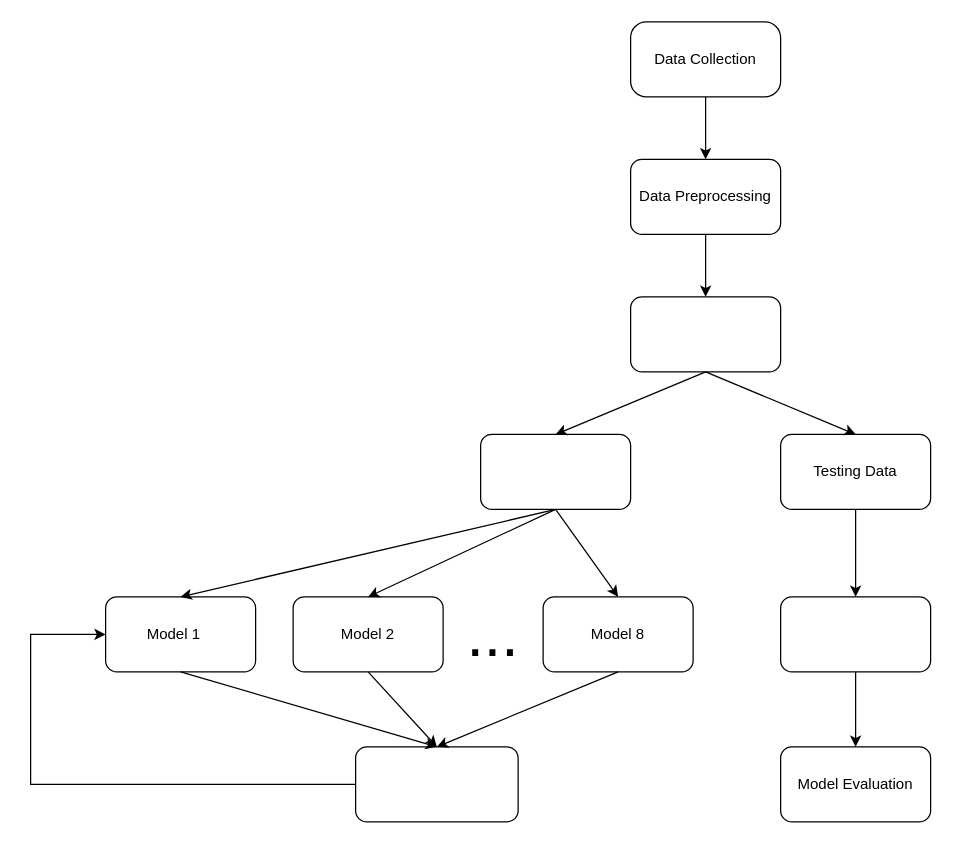
This 953x844 diagram has some shape labels left out. Here are the shapes that lost their labels. From the top down, the centre of each, then its label:
At point 705,334: "Feature Engineering".
At point 555,471: "Training Data".
At point 855,634: "Trained Models".
At point 436,784: "Hyperparameter Tuning".
